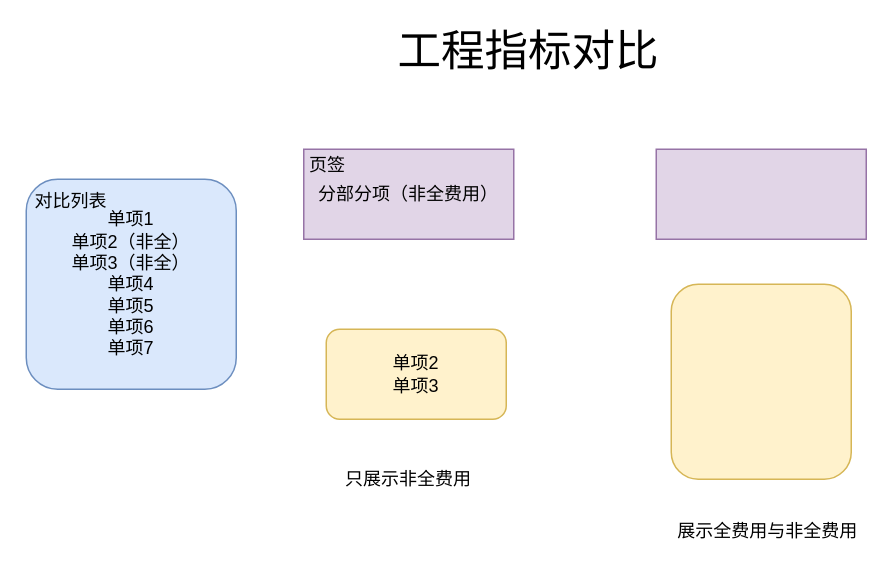
The diagram is 896 pixels wide and 569 high, and some of its shapes have lost their labels. The centre of each missing label's shape, as x and y in pixels:
"分部分项（全费用）" goes at pixel 760 193.
"单项1 单项2 单项3 单项4 单项5 单项6 单项7" goes at pixel 760 381.
